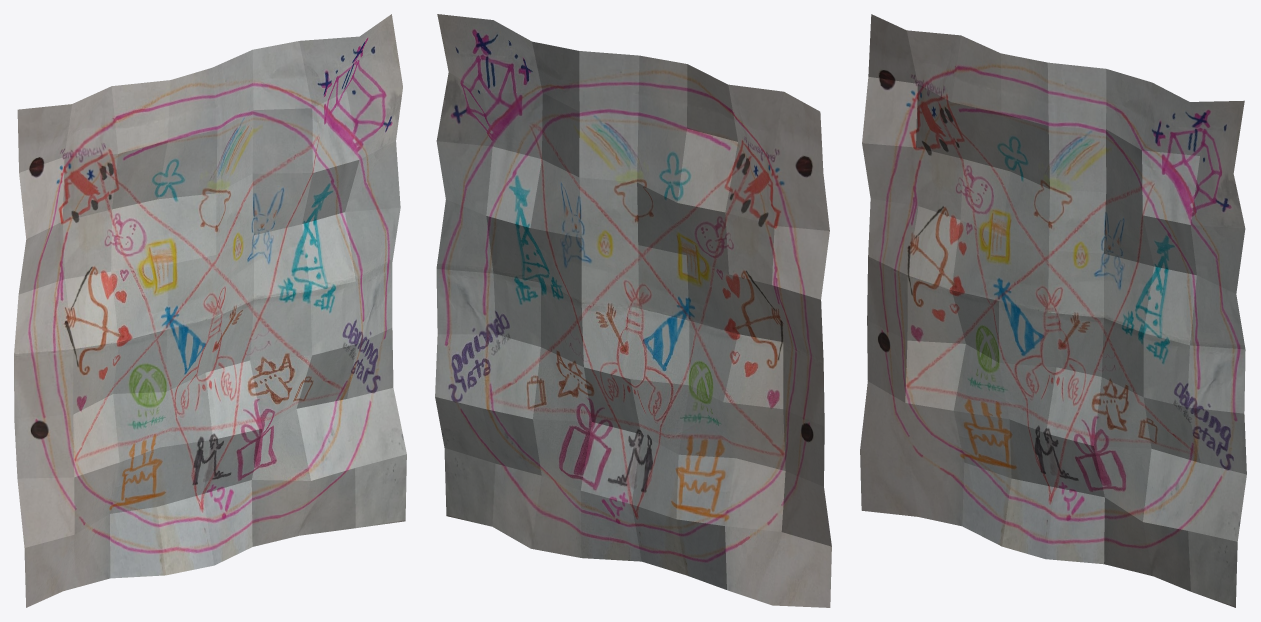
The model's file is pentagram.glb.
The picture shows the model from 3 angles, left to right: view 1: azimuth 30°, elevation 25°; view 2: azimuth 150°, elevation 25°; view 3: azimuth 330°, elevation 25°; orthographic projection. The views are drawn at different scales.
Parts seen in each view (by area): view 1: Plane; view 2: Plane; view 3: Plane.
Boxes of the visible parts, x1,y1,x2,y2 form: Plane: (14,14,406,607); Plane: (435,14,831,607); Plane: (860,14,1246,607).
Bounding box in the file's own units: 2.02 × 2.53 × 0.1162.
Materials: 1 (1 with a texture image).
